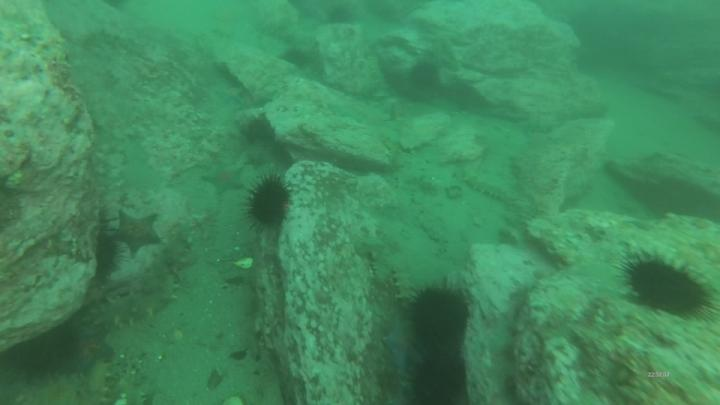echinus: (629, 260, 704, 315), (419, 286, 469, 346), (422, 358, 468, 405), (251, 181, 290, 226), (246, 117, 275, 148), (411, 62, 441, 91), (281, 46, 309, 70)
holothurian: (91, 291, 164, 328), (466, 168, 513, 206), (79, 360, 113, 403), (391, 265, 417, 305)
scallop: (235, 256, 254, 271)
starfish: (111, 209, 163, 257), (63, 327, 114, 372), (384, 324, 421, 368), (203, 161, 245, 195)
